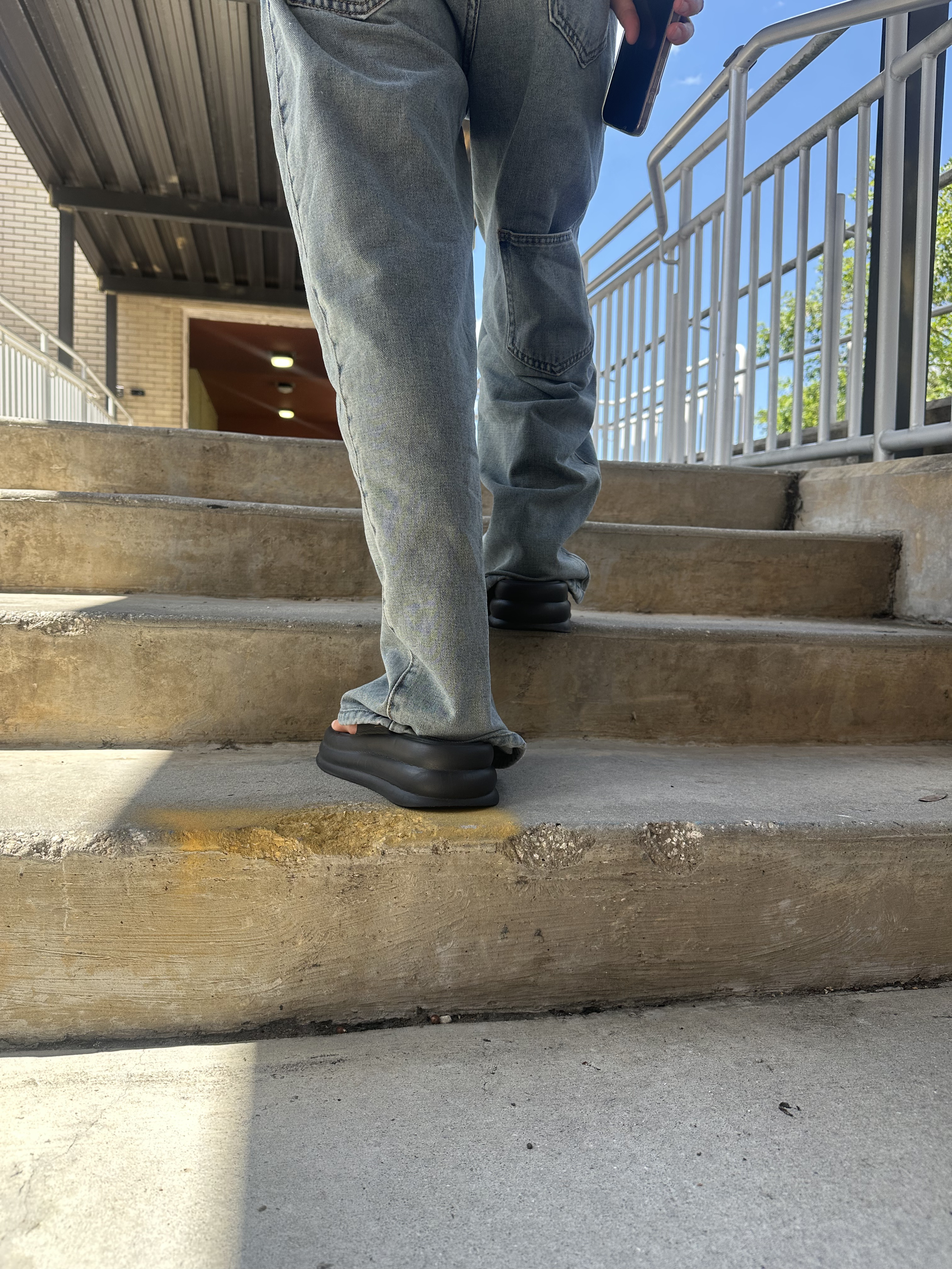stairs: (2, 423, 952, 1052)
